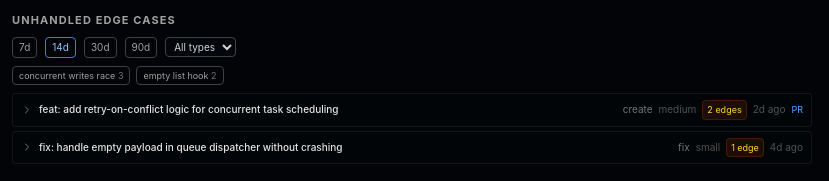
Test: SrUnhandledEdgesRetrospectivesPanel — viewport regression › filtered-empty state shows "matching <pattern>" when a case-pattern badge is active
Click the button "concurrent writes race 3". click: (71, 75)
box: [12,66,130,85]
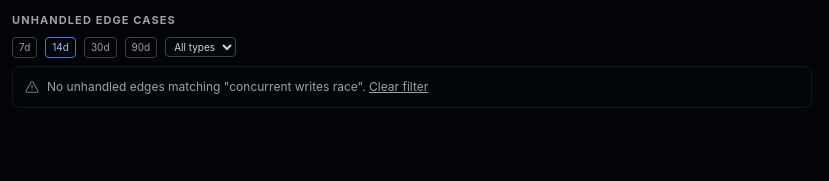
Now the message with test id "sr-unhandled-edges-empty" shows "No unhandled edges matching \"concurrent writes race\"", box [12,66,812,108]
